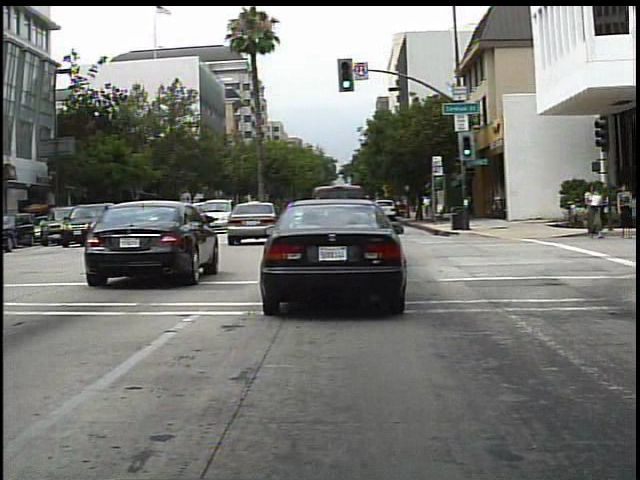person: (580, 179, 607, 243), (610, 180, 636, 240), (418, 190, 435, 221)
